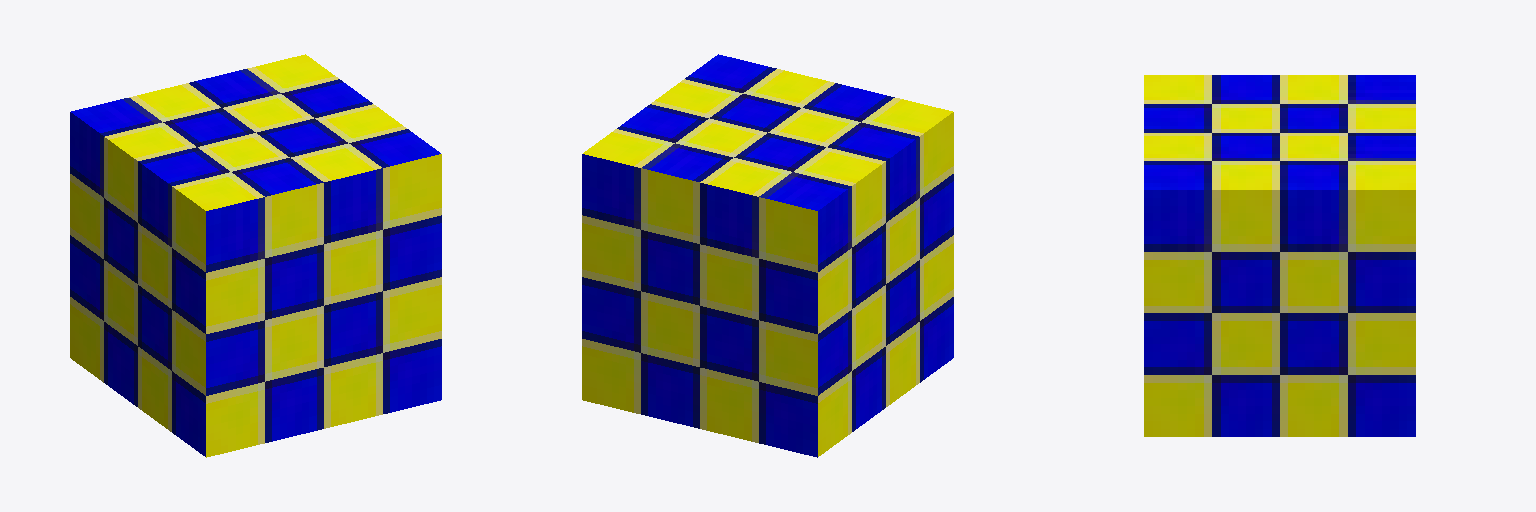
3 renders of one model, left to right at view 1: azimuth 30°, elevation 25°; view 2: azimuth 150°, elevation 25°; view 3: azimuth 270°, elevation 25°, orthographic.
Bounding box in the file's own units: 20 × 20 × 20.
Materials: 1 (1 with a texture image).